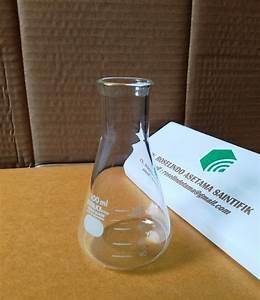Titrarion: (75, 62, 170, 267)
